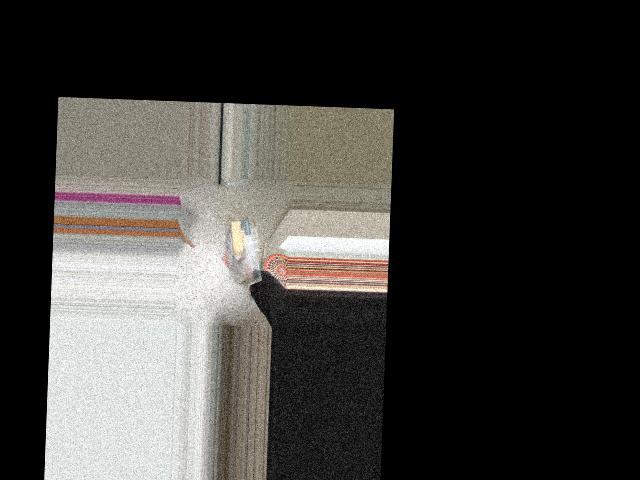cheese: (222, 217, 266, 284)
